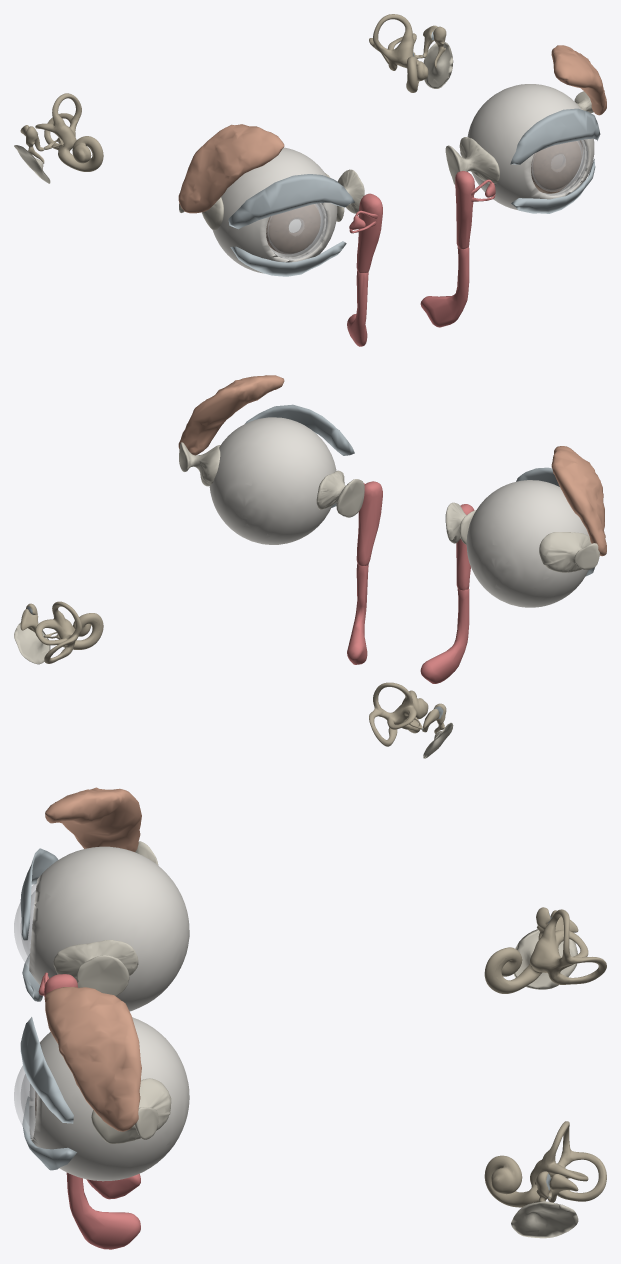
The model's file is adult_male.sensory.LOD0.glb.
3 views of the same model, one above another, from view 1: azimuth 30°, elevation 25°; view 2: azimuth 150°, elevation 25°; view 3: azimuth 270°, elevation 25° (orthographic). The views are drawn at different scales.
Parts seen in each view (by area): view 1: ADULT.MALE.SENSORY.SCLERA.L, ADULT.MALE.SENSORY.LACRIMAL_GLAND.R, ADULT.MALE.SENSORY.SCLERA.R, ADULT.MALE.SENSORY.SUPERIOR_TARSUS.R, ADULT.MALE.SENSORY.CORNEA.R, ADULT.MALE.SENSORY.SUPERIOR_TARSUS.L, ADULT.MALE.SENSORY.CORNEA.L, ADULT.MALE.SENSORY.ANTERIOR_CHAMBER_OF_EYEBALL.R, ADULT.MALE.SENSORY.ANTERIOR_CHAMBER_OF_EYEBALL.L, ADULT.MALE.SENSORY.LACRIMAL_GLAND.L, ADULT.MALE.SENSORY.IRIS.R, ADULT.MALE.SENSORY.SUSPENSORY_LIGAMENT_OF_EYEBALL.L (+14 smaller); view 2: ADULT.MALE.SENSORY.SCLERA.L, ADULT.MALE.SENSORY.SCLERA.R, ADULT.MALE.SENSORY.LACRIMAL_GLAND.L, ADULT.MALE.SENSORY.LACRIMAL_GLAND.R, ADULT.MALE.SENSORY.SUSPENSORY_LIGAMENT_OF_EYEBALL.R, ADULT.MALE.SENSORY.SUSPENSORY_LIGAMENT_OF_EYEBALL.L, ADULT.MALE.SENSORY.NASOLACRIMAL_DUCT.R, ADULT.MALE.SENSORY.SUPERIOR_TARSUS.L, ADULT.MALE.SENSORY.LACRIMAL_SAC.L, ADULT.MALE.SENSORY.VESTIBULE.L, ADULT.MALE.SENSORY.VESTIBULE.R, ADULT.MALE.SENSORY.NASOLACRIMAL_DUCT.L (+3 smaller); view 3: ADULT.MALE.SENSORY.SCLERA.R, ADULT.MALE.SENSORY.SCLERA.L, ADULT.MALE.SENSORY.LACRIMAL_GLAND.L, ADULT.MALE.SENSORY.LACRIMAL_GLAND.R, ADULT.MALE.SENSORY.SUSPENSORY_LIGAMENT_OF_EYEBALL.R, ADULT.MALE.SENSORY.VESTIBULE.R, ADULT.MALE.SENSORY.NASOLACRIMAL_DUCT.L, ADULT.MALE.SENSORY.SUSPENSORY_LIGAMENT_OF_EYEBALL.L, ADULT.MALE.SENSORY.VESTIBULE.L, ADULT.MALE.SENSORY.SUPERIOR_TARSUS.L, ADULT.MALE.SENSORY.TYMPANIC_MEMBRANE.L, ADULT.MALE.SENSORY.COCHLEA.L (+7 smaller).
Boxes of the visible parts, x1,y1,x2,y2 form: ADULT.MALE.SENSORY.SCLERA.L: (467, 84, 594, 209); ADULT.MALE.SENSORY.LACRIMAL_GLAND.R: (178, 124, 284, 213); ADULT.MALE.SENSORY.SCLERA.R: (212, 147, 337, 273); ADULT.MALE.SENSORY.SUPERIOR_TARSUS.R: (228, 174, 354, 229); ADULT.MALE.SENSORY.CORNEA.R: (266, 203, 327, 259); ADULT.MALE.SENSORY.SUPERIOR_TARSUS.L: (510, 108, 600, 164); ADULT.MALE.SENSORY.CORNEA.L: (531, 140, 588, 195); ADULT.MALE.SENSORY.ANTERIOR_CHAMBER_OF_EYEBALL.R: (267, 204, 323, 255); ADULT.MALE.SENSORY.ANTERIOR_CHAMBER_OF_EYEBALL.L: (532, 141, 583, 191); ADULT.MALE.SENSORY.LACRIMAL_GLAND.L: (551, 45, 606, 115); ADULT.MALE.SENSORY.IRIS.R: (266, 204, 320, 253); ADULT.MALE.SENSORY.SUSPENSORY_LIGAMENT_OF_EYEBALL.L: (445, 91, 593, 185); ADULT.MALE.SENSORY.SCLERA.L: (209, 417, 336, 544); ADULT.MALE.SENSORY.SCLERA.R: (466, 480, 589, 607); ADULT.MALE.SENSORY.LACRIMAL_GLAND.L: (178, 375, 284, 455); ADULT.MALE.SENSORY.LACRIMAL_GLAND.R: (551, 446, 606, 556); ADULT.MALE.SENSORY.SUSPENSORY_LIGAMENT_OF_EYEBALL.R: (445, 502, 599, 572); ADULT.MALE.SENSORY.SUSPENSORY_LIGAMENT_OF_EYEBALL.L: (179, 442, 364, 517); ADULT.MALE.SENSORY.NASOLACRIMAL_DUCT.R: (420, 588, 469, 683); ADULT.MALE.SENSORY.SUPERIOR_TARSUS.L: (245, 404, 354, 455); ADULT.MALE.SENSORY.LACRIMAL_SAC.L: (356, 481, 382, 565); ADULT.MALE.SENSORY.VESTIBULE.L: (35, 601, 81, 663); ADULT.MALE.SENSORY.VESTIBULE.R: (369, 682, 416, 746); ADULT.MALE.SENSORY.NASOLACRIMAL_DUCT.L: (347, 564, 368, 664); ADULT.MALE.SENSORY.SCLERA.R: (29, 846, 189, 1011); ADULT.MALE.SENSORY.SCLERA.L: (29, 1017, 189, 1181); ADULT.MALE.SENSORY.LACRIMAL_GLAND.L: (45, 987, 141, 1131); ADULT.MALE.SENSORY.LACRIMAL_GLAND.R: (45, 787, 141, 851); ADULT.MALE.SENSORY.SUSPENSORY_LIGAMENT_OF_EYEBALL.R: (53, 841, 158, 996); ADULT.MALE.SENSORY.VESTIBULE.R: (530, 909, 606, 984); ADULT.MALE.SENSORY.NASOLACRIMAL_DUCT.L: (66, 1172, 140, 1249); ADULT.MALE.SENSORY.SUSPENSORY_LIGAMENT_OF_EYEBALL.L: (91, 1078, 171, 1143); ADULT.MALE.SENSORY.VESTIBULE.L: (530, 1121, 606, 1201); ADULT.MALE.SENSORY.SUPERIOR_TARSUS.L: (20, 1017, 73, 1123); ADULT.MALE.SENSORY.TYMPANIC_MEMBRANE.L: (511, 1201, 578, 1238); ADULT.MALE.SENSORY.COCHLEA.L: (484, 1155, 539, 1207).
Bounding box in the file's own units: 0.1012 × 0.0571 × 0.0923.
